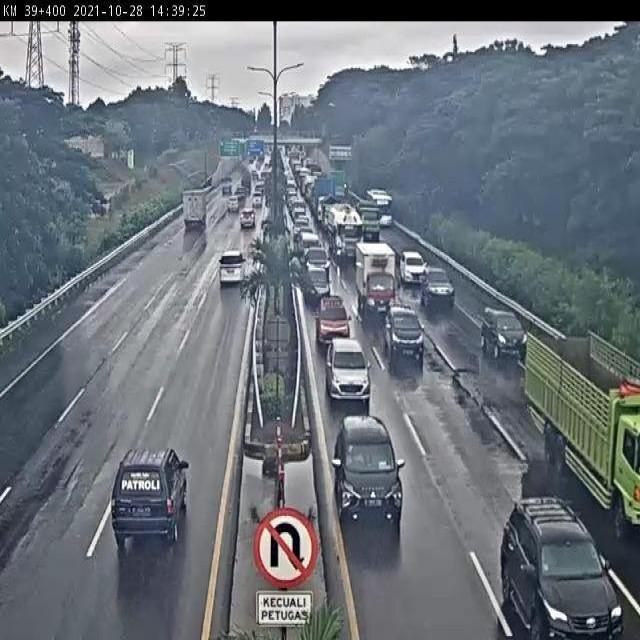big truck: (518, 316, 640, 543), (322, 200, 367, 268)
car: (486, 485, 614, 640), (99, 408, 203, 569), (330, 409, 407, 536), (319, 331, 374, 412), (382, 302, 429, 370), (481, 305, 528, 367), (309, 291, 353, 345), (418, 260, 455, 312), (214, 244, 249, 295), (395, 243, 422, 281), (235, 202, 261, 235), (247, 190, 265, 213), (222, 195, 242, 213)
small truck: (348, 242, 402, 322), (173, 184, 209, 240)
